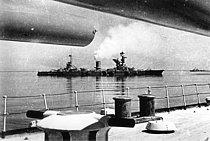MIL_Ship: (34, 50, 165, 78)
